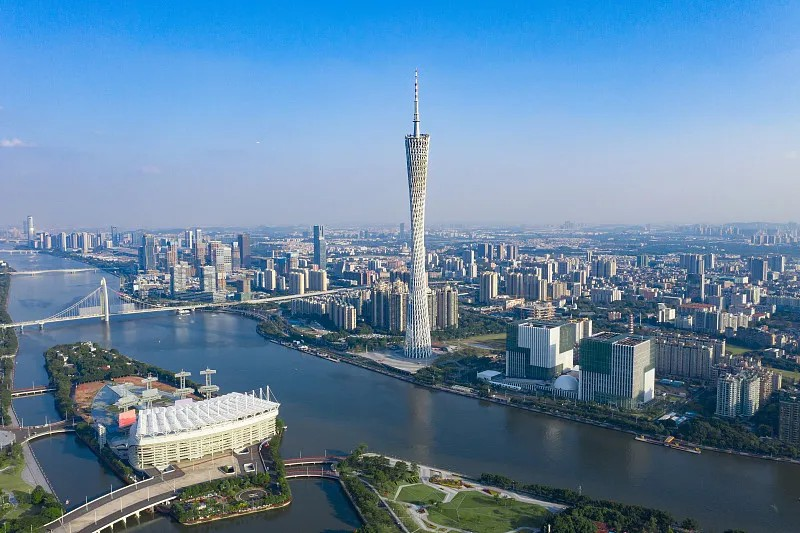Canton: (402, 67, 435, 361)
